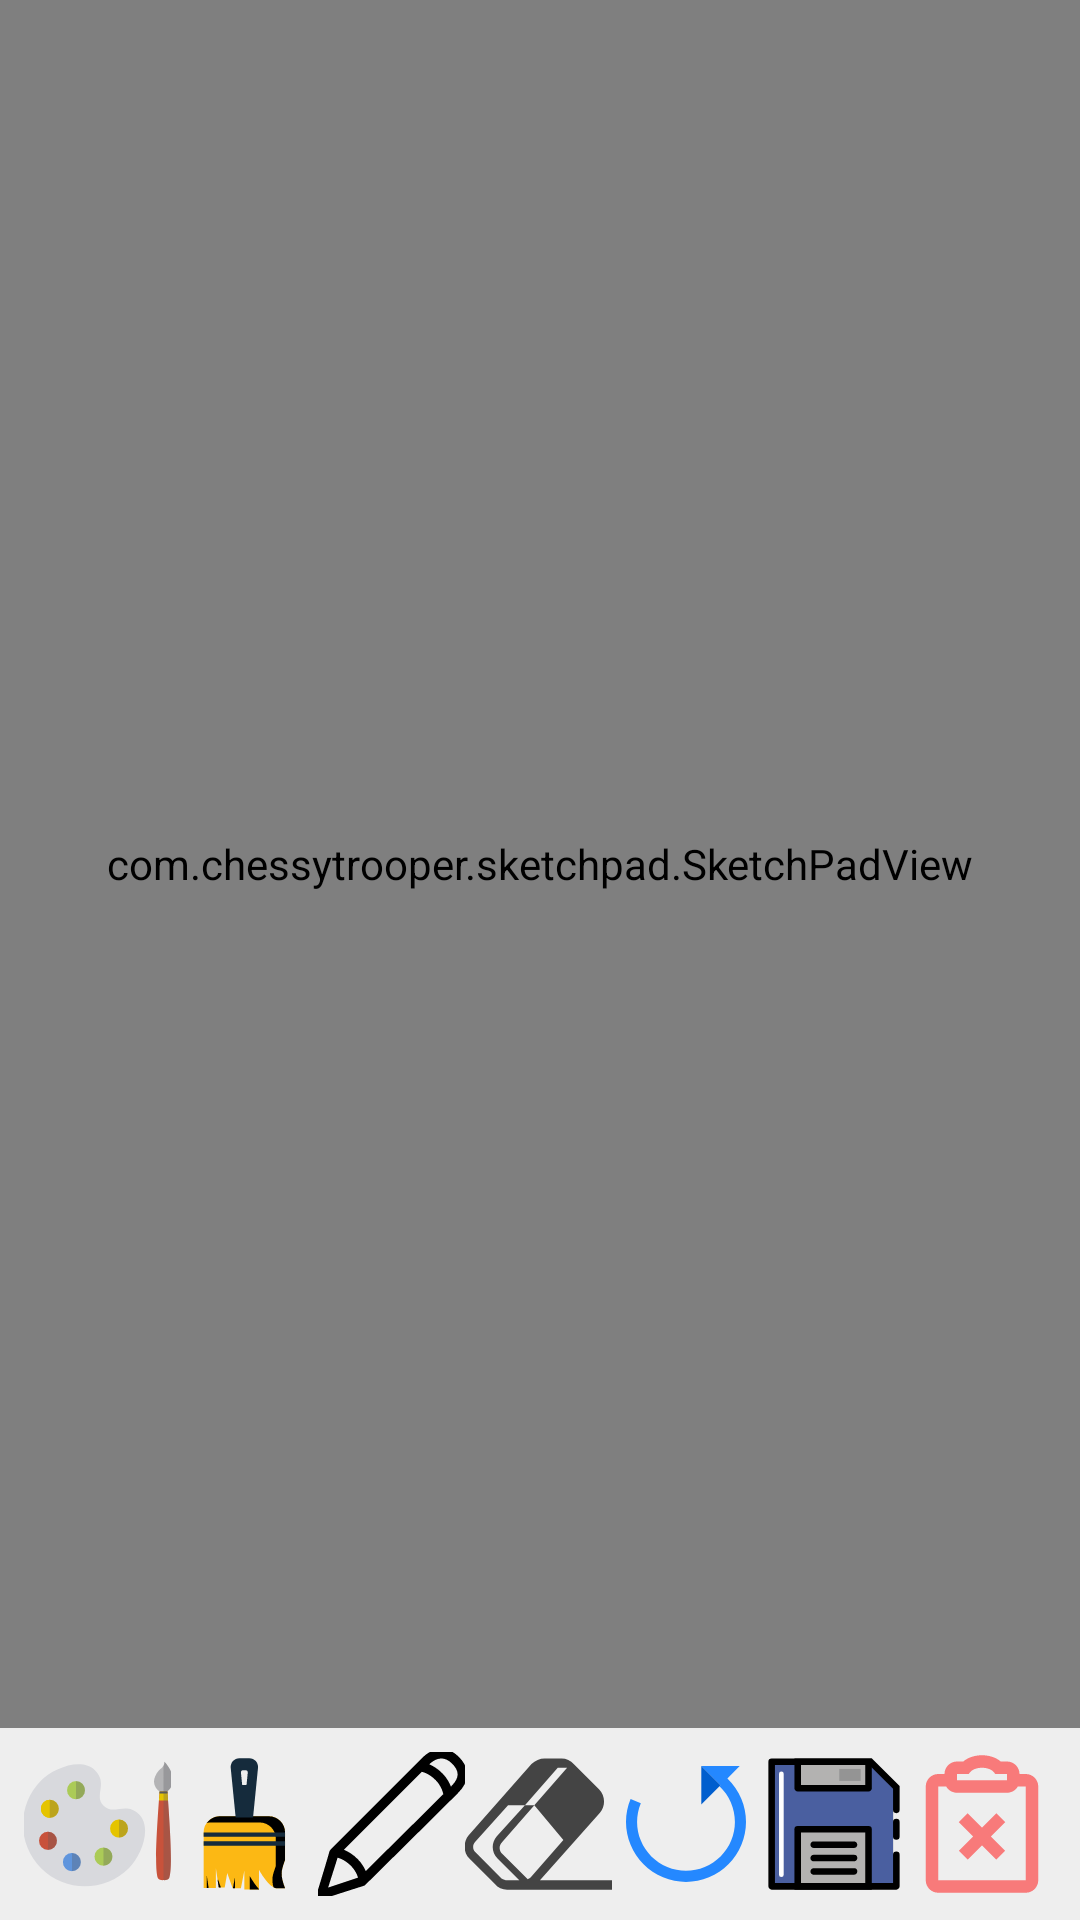

Named icons in this screenshot (1080*1920) and their bounding boxes, rect(x1, y1, x2, y2):
Brush: rect(203, 1758, 285, 1890)
Clear: rect(925, 1755, 1039, 1893)
Color Palette: rect(39, 1762, 171, 1881)
Eraser: rect(465, 1758, 612, 1890)
Pencil: rect(318, 1752, 465, 1896)
Save: rect(768, 1758, 900, 1890)
Undo: rect(626, 1766, 746, 1882)
